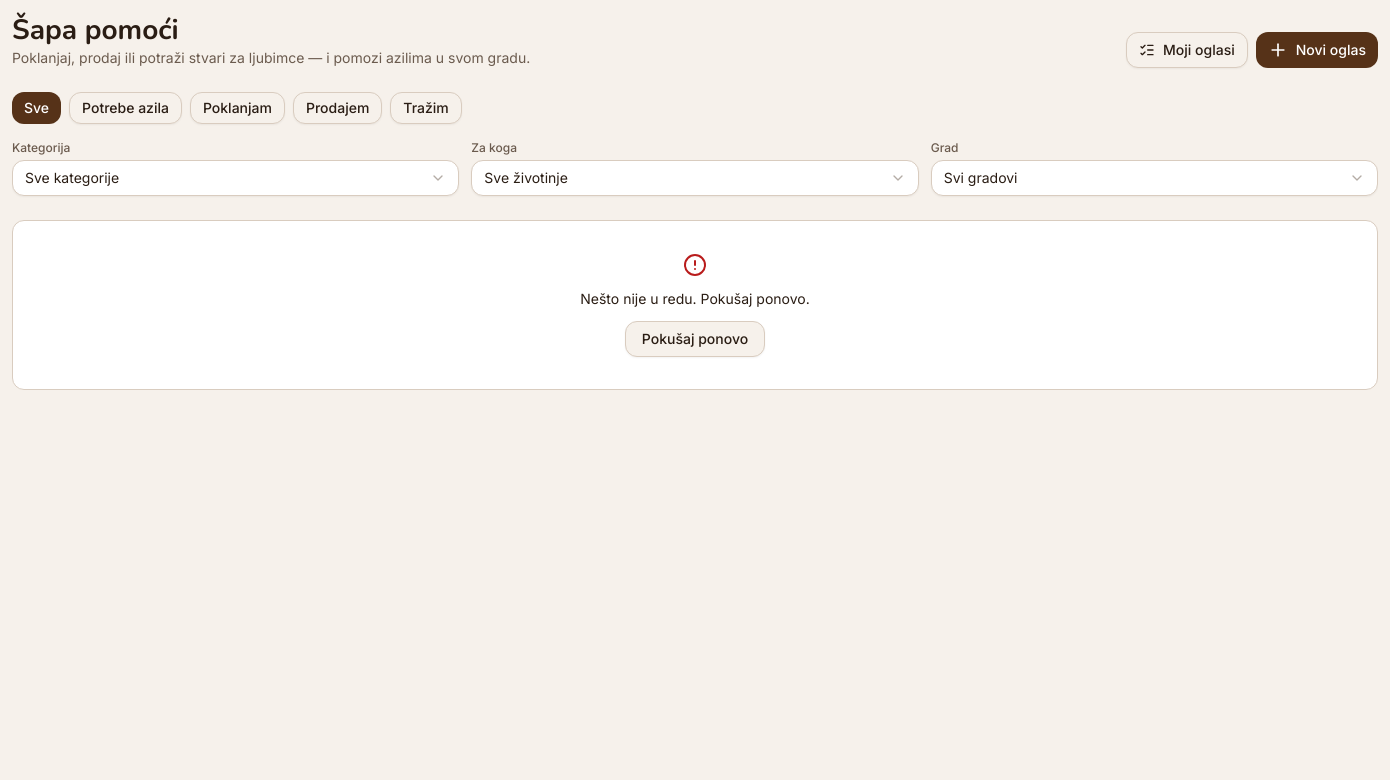
Test: S32 Šapa pomoći › error: 5xx shows the error state and Pokušaj ponovo reloads
Expected: the message shows "Nešto nije u redu. Pokušaj ponovo.", [580, 290, 810, 307]
Click the button "Pokušaj ponovo" at x=695, y=339, box [625, 321, 765, 357]
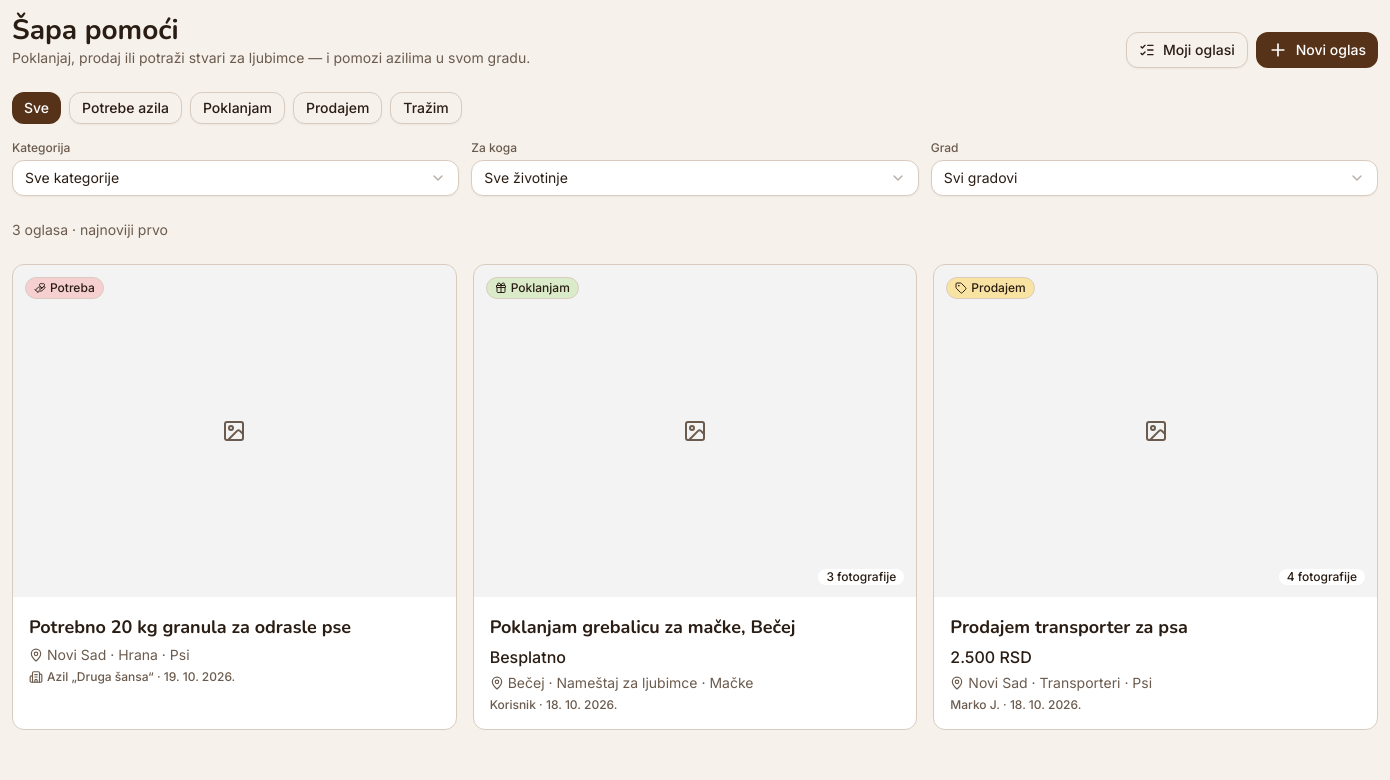
Result: the link "Prodajem transporter za psa" is shown at [950, 615, 1188, 639]
